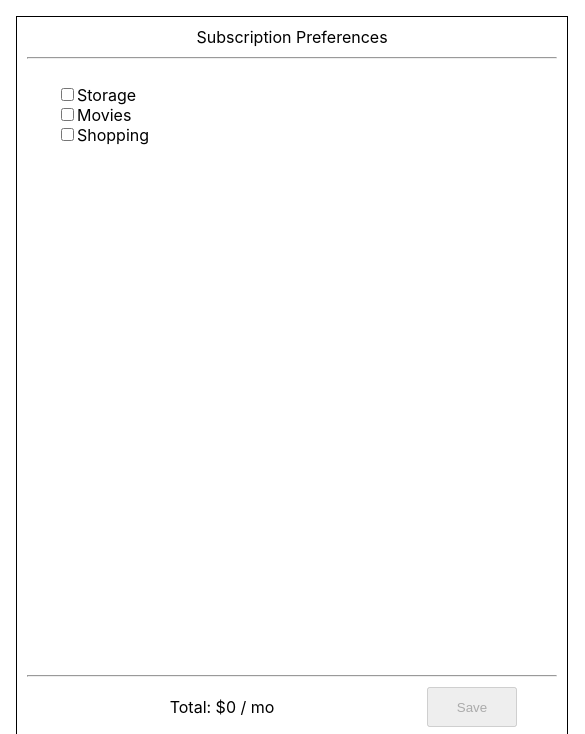
Scenario: Save Button Enable/Disable › Select Deselect
Step 1. Click the checkbox with test id "checkBox" showing "Movies" → click(68, 114), box [61,108,74,121]
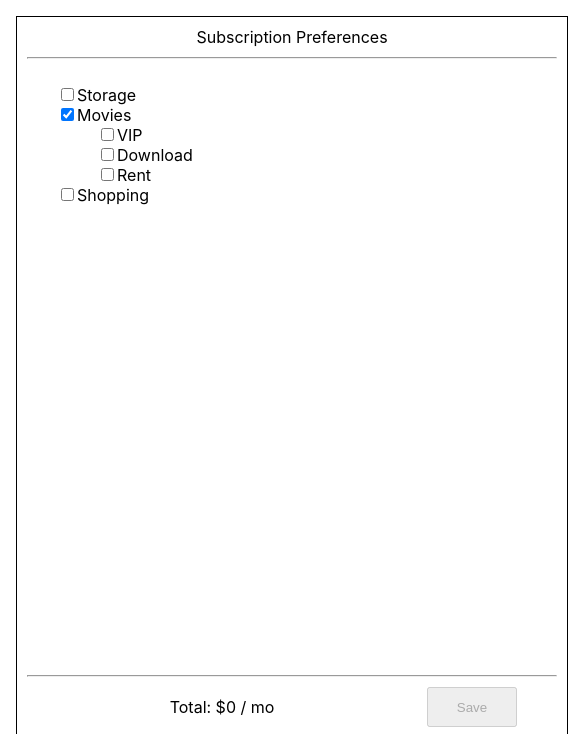
Step 2. Click the checkbox with test id "checkBox" showing "Download" → click(108, 154), box [101,148,114,161]
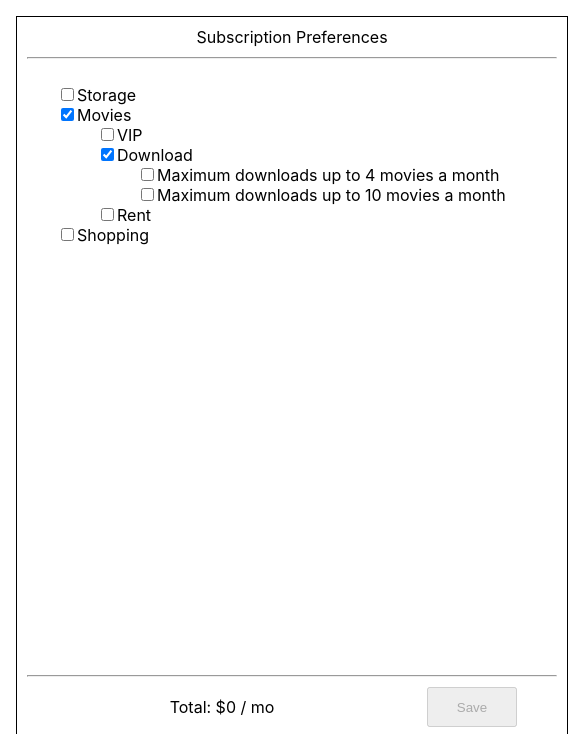
Step 3. Click the 5th checkbox with test id "checkBox" → click(148, 174), box [141,168,154,181]
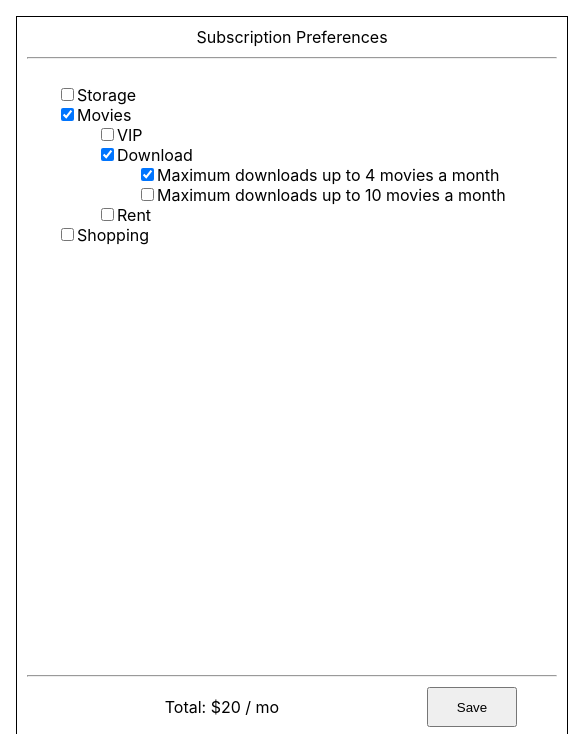
Step 4. Click the 5th checkbox with test id "checkBox" → click(148, 174), box [141,168,154,181]
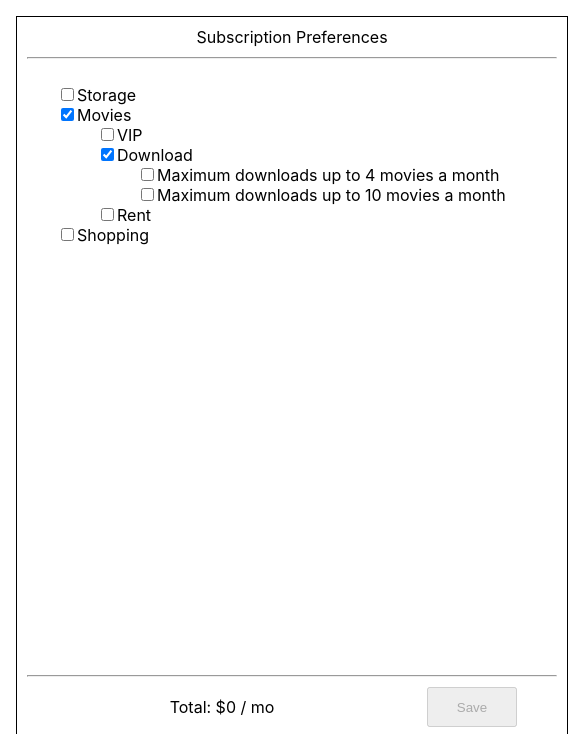
Check: the button with test id "save_button" is disabled, box [427,687,517,727]
